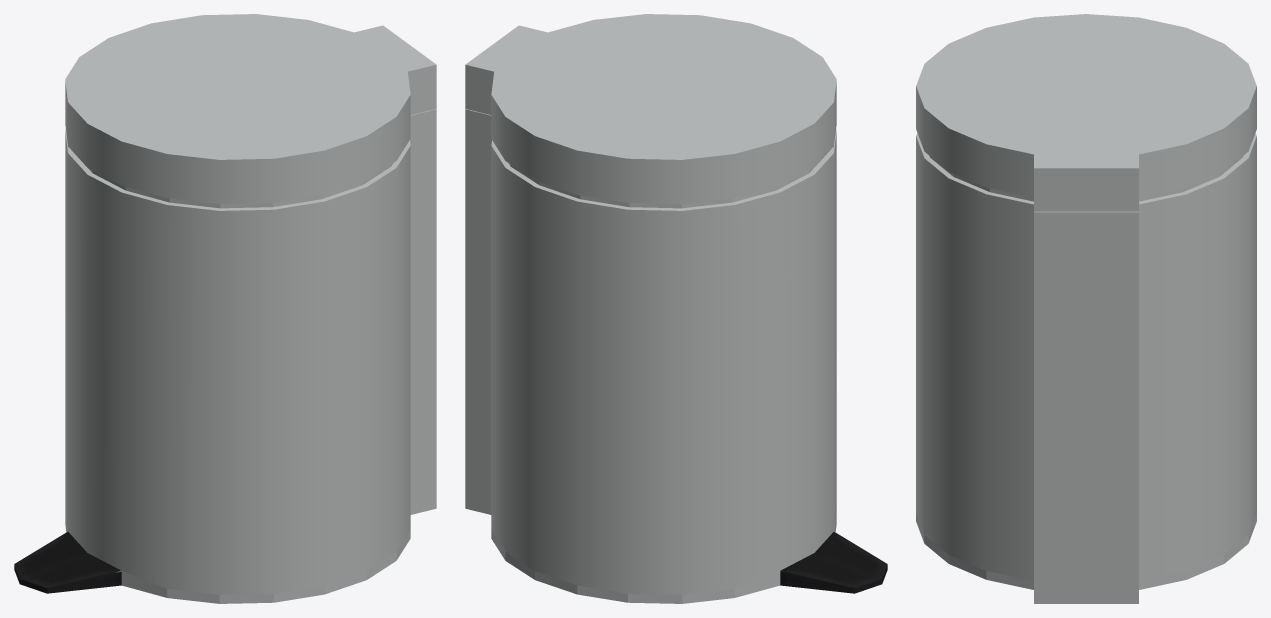
File: Obj_Lixeira_1.fbx
3 renders of one model, left to right at view 1: azimuth 30°, elevation 25°; view 2: azimuth 150°, elevation 25°; view 3: azimuth 270°, elevation 25°, orthographic.
Visible parts, largest first — view 1: pCylinder64, pCylinder65; view 2: pCylinder64, pCylinder65; view 3: pCylinder64, pCylinder65.
Part boxes in pixels (box(x1,y1,x2,y2)): pCylinder64: box(14, 109, 436, 603); pCylinder65: box(65, 14, 436, 203); pCylinder64: box(465, 109, 887, 603); pCylinder65: box(465, 14, 836, 203); pCylinder64: box(916, 133, 1256, 603); pCylinder65: box(916, 14, 1256, 211).
Bounding box in the file's own units: 0.3067 × 0.3334 × 0.2364.
1 material, 1 textured.
